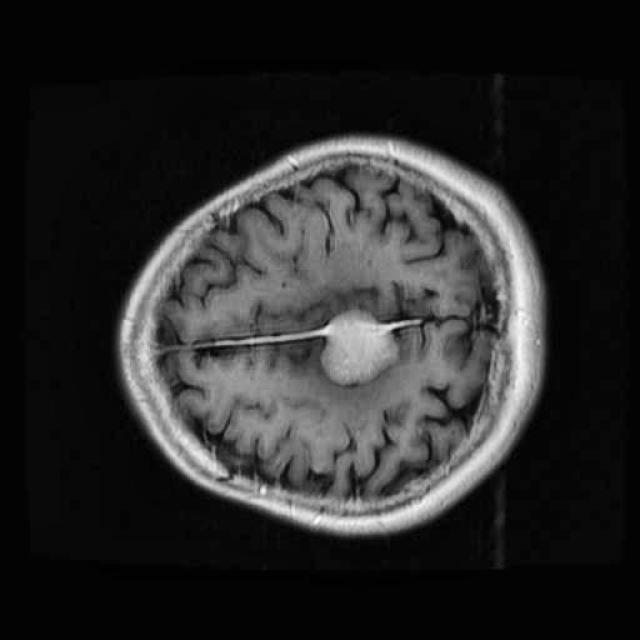Tumor: (315, 300, 404, 388)
